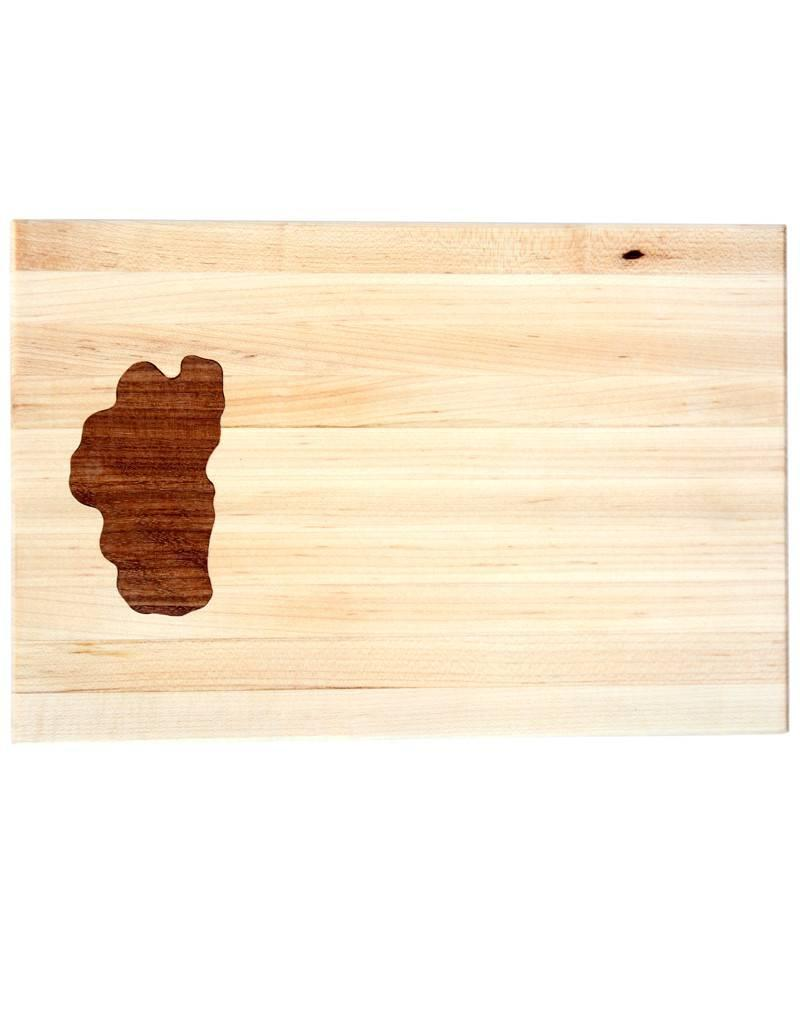gloved_hand: (3, 195, 800, 748)
